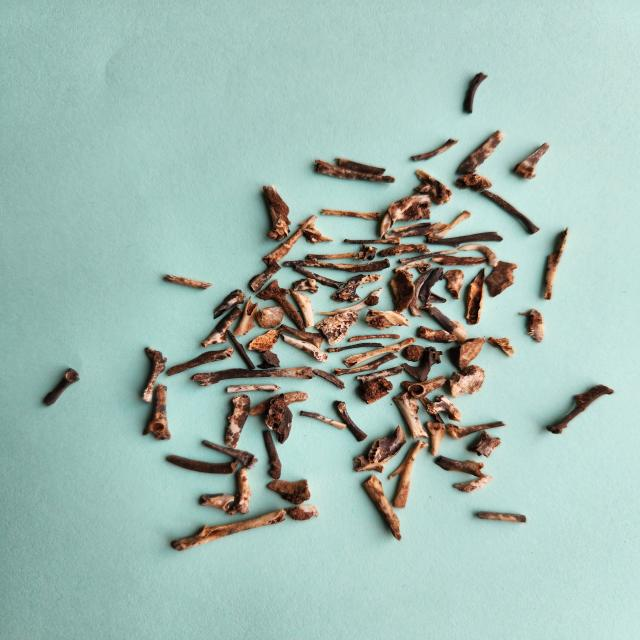fossil: (165, 506, 288, 556), (544, 383, 617, 436), (355, 473, 407, 543), (189, 363, 317, 389), (386, 438, 431, 510), (259, 213, 319, 267), (254, 278, 308, 333), (479, 189, 541, 236), (351, 424, 408, 474), (538, 224, 574, 303), (378, 192, 433, 238), (454, 129, 506, 176), (341, 336, 417, 368), (313, 158, 398, 186), (163, 346, 236, 378), (198, 301, 246, 349), (138, 382, 175, 444), (136, 344, 174, 404), (316, 287, 387, 318), (261, 182, 297, 243), (418, 301, 469, 344), (391, 389, 431, 440), (39, 366, 85, 409), (200, 438, 260, 470), (282, 257, 392, 274), (222, 393, 254, 451), (164, 453, 241, 477), (263, 393, 297, 447), (315, 308, 361, 347), (329, 272, 384, 304), (225, 464, 257, 518), (331, 399, 370, 443), (332, 353, 400, 378), (278, 332, 331, 364), (400, 345, 445, 382), (249, 391, 312, 417), (432, 454, 495, 480), (264, 476, 318, 506), (443, 418, 509, 442), (460, 69, 493, 117), (463, 266, 489, 326), (511, 142, 551, 181), (413, 168, 454, 206), (406, 267, 435, 318), (447, 364, 488, 400), (292, 265, 350, 290), (276, 323, 329, 350), (226, 328, 258, 372), (449, 334, 486, 372), (424, 231, 506, 248), (428, 208, 474, 238), (408, 137, 461, 163), (515, 305, 549, 345), (389, 269, 418, 315), (211, 286, 248, 322), (484, 261, 520, 298), (260, 429, 286, 480), (398, 374, 449, 400), (246, 260, 283, 294), (364, 307, 414, 332), (297, 408, 349, 432), (384, 222, 451, 240), (418, 266, 448, 306), (233, 294, 260, 338), (427, 392, 466, 422), (357, 376, 396, 406), (354, 364, 405, 386), (288, 288, 316, 328), (465, 430, 504, 458), (472, 508, 532, 526), (457, 243, 499, 268), (319, 207, 383, 223), (397, 248, 460, 264), (193, 490, 238, 512), (333, 158, 388, 176), (419, 392, 447, 427), (161, 273, 215, 291), (311, 366, 348, 392), (451, 474, 496, 495), (247, 328, 284, 353), (282, 502, 320, 526), (298, 222, 336, 245), (426, 421, 450, 456), (416, 324, 458, 344), (428, 253, 488, 267), (486, 333, 516, 360), (376, 244, 432, 258), (444, 266, 466, 301), (453, 173, 493, 192), (225, 382, 284, 394), (325, 342, 387, 353), (392, 259, 434, 275), (255, 348, 285, 370), (348, 332, 403, 343), (342, 236, 402, 246), (304, 250, 357, 261), (291, 276, 320, 295), (352, 243, 381, 262), (391, 222, 432, 234), (402, 343, 428, 361)
